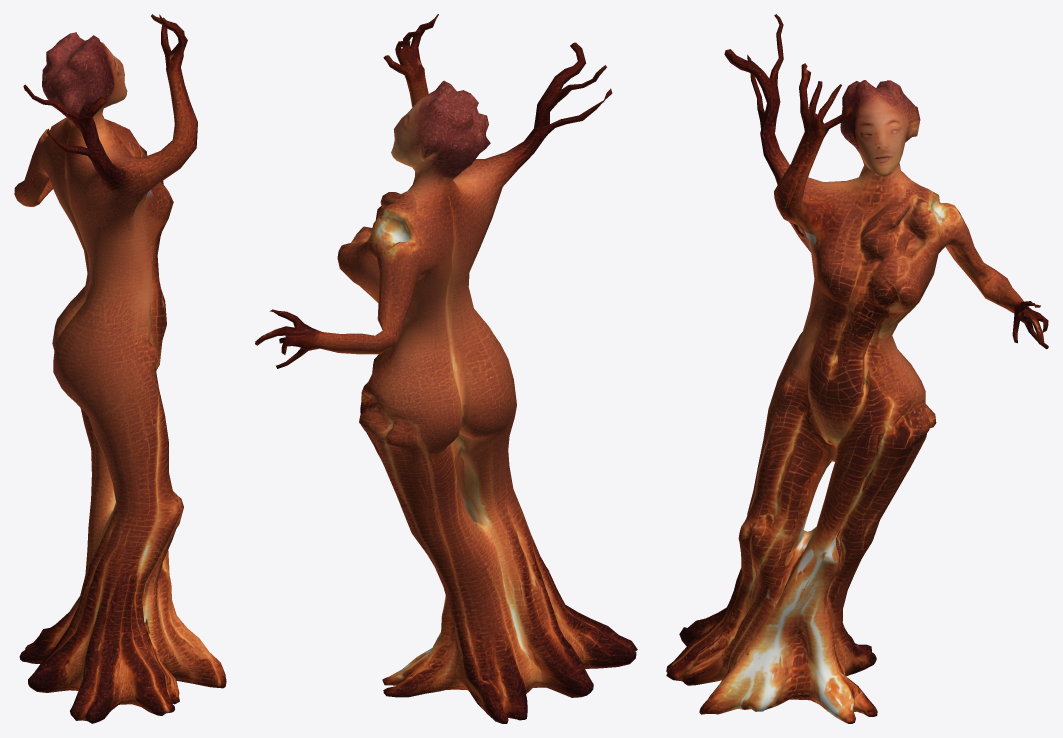
The model's file is eld-textur.glb.
The picture shows the model from 3 angles, left to right: view 1: azimuth 30°, elevation 25°; view 2: azimuth 150°, elevation 25°; view 3: azimuth 270°, elevation 25°; orthographic projection. The views are drawn at different scales.
Visible parts, largest first — view 1: tripo_node_0201eeb6; view 2: tripo_node_0201eeb6; view 3: tripo_node_0201eeb6.
Part boxes in pixels (x1=…): tripo_node_0201eeb6: x1=14, y1=14, x2=226, y2=723; tripo_node_0201eeb6: x1=255, y1=14, x2=637, y2=723; tripo_node_0201eeb6: x1=666, y1=14, x2=1048, y2=723.
Size of the model in its own units: 0.3339 by 0.9722 by 0.5216.
1 material, 1 textured.
